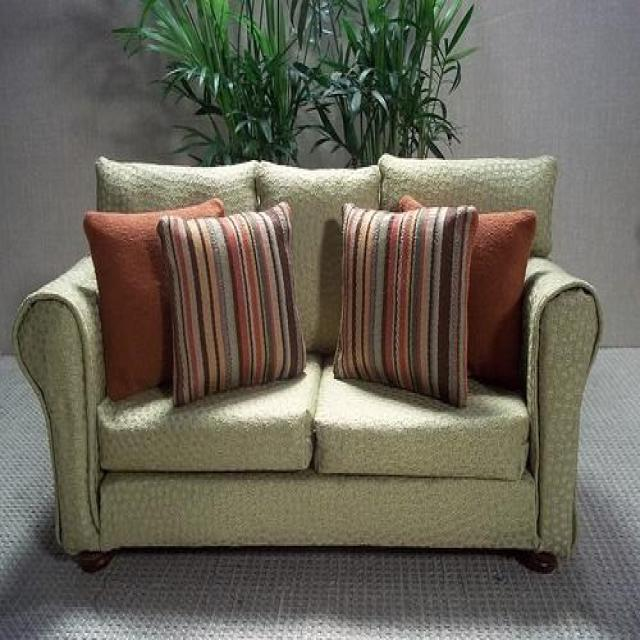sofa: (10, 150, 605, 576)
